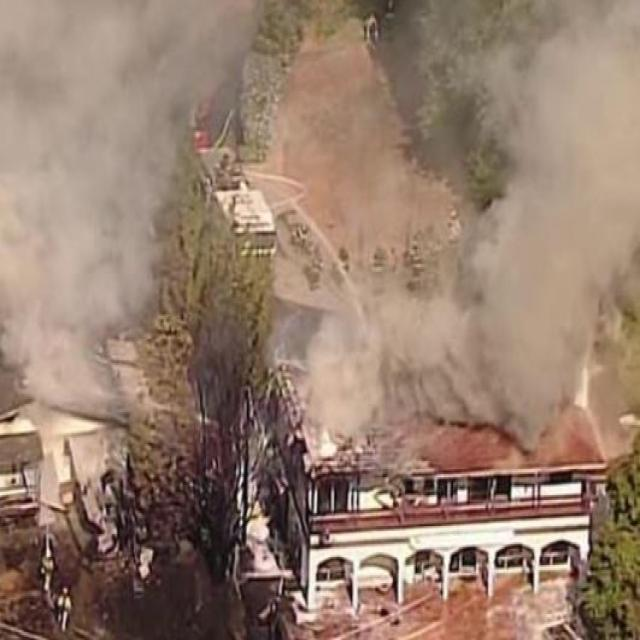Smoke: (311, 49, 640, 440), (0, 3, 213, 412)
